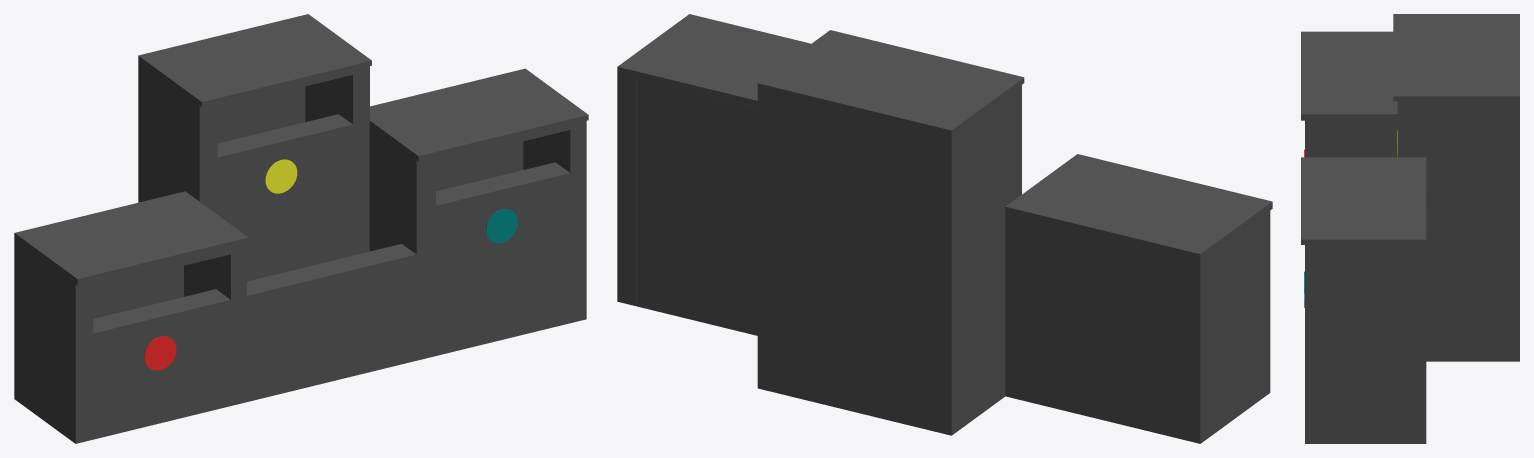
Rendered from Tempat_sampah.fbx.
3 renders of one model, left to right at view 1: azimuth 30°, elevation 25°; view 2: azimuth 150°, elevation 25°; view 3: azimuth 270°, elevation 25°, orthographic. The views are drawn at different scales.
Parts seen in each view (by area): view 1: Tempat sampah; view 2: Tempat sampah; view 3: Tempat sampah.
Boxes of the visible parts, x1=… form: Tempat sampah: x1=14, y1=14, x2=588, y2=443; Tempat sampah: x1=617, y1=14, x2=1272, y2=443; Tempat sampah: x1=1301, y1=14, x2=1519, y2=443.
Size of the model in its own units: 150 by 75.01 by 56.06.
